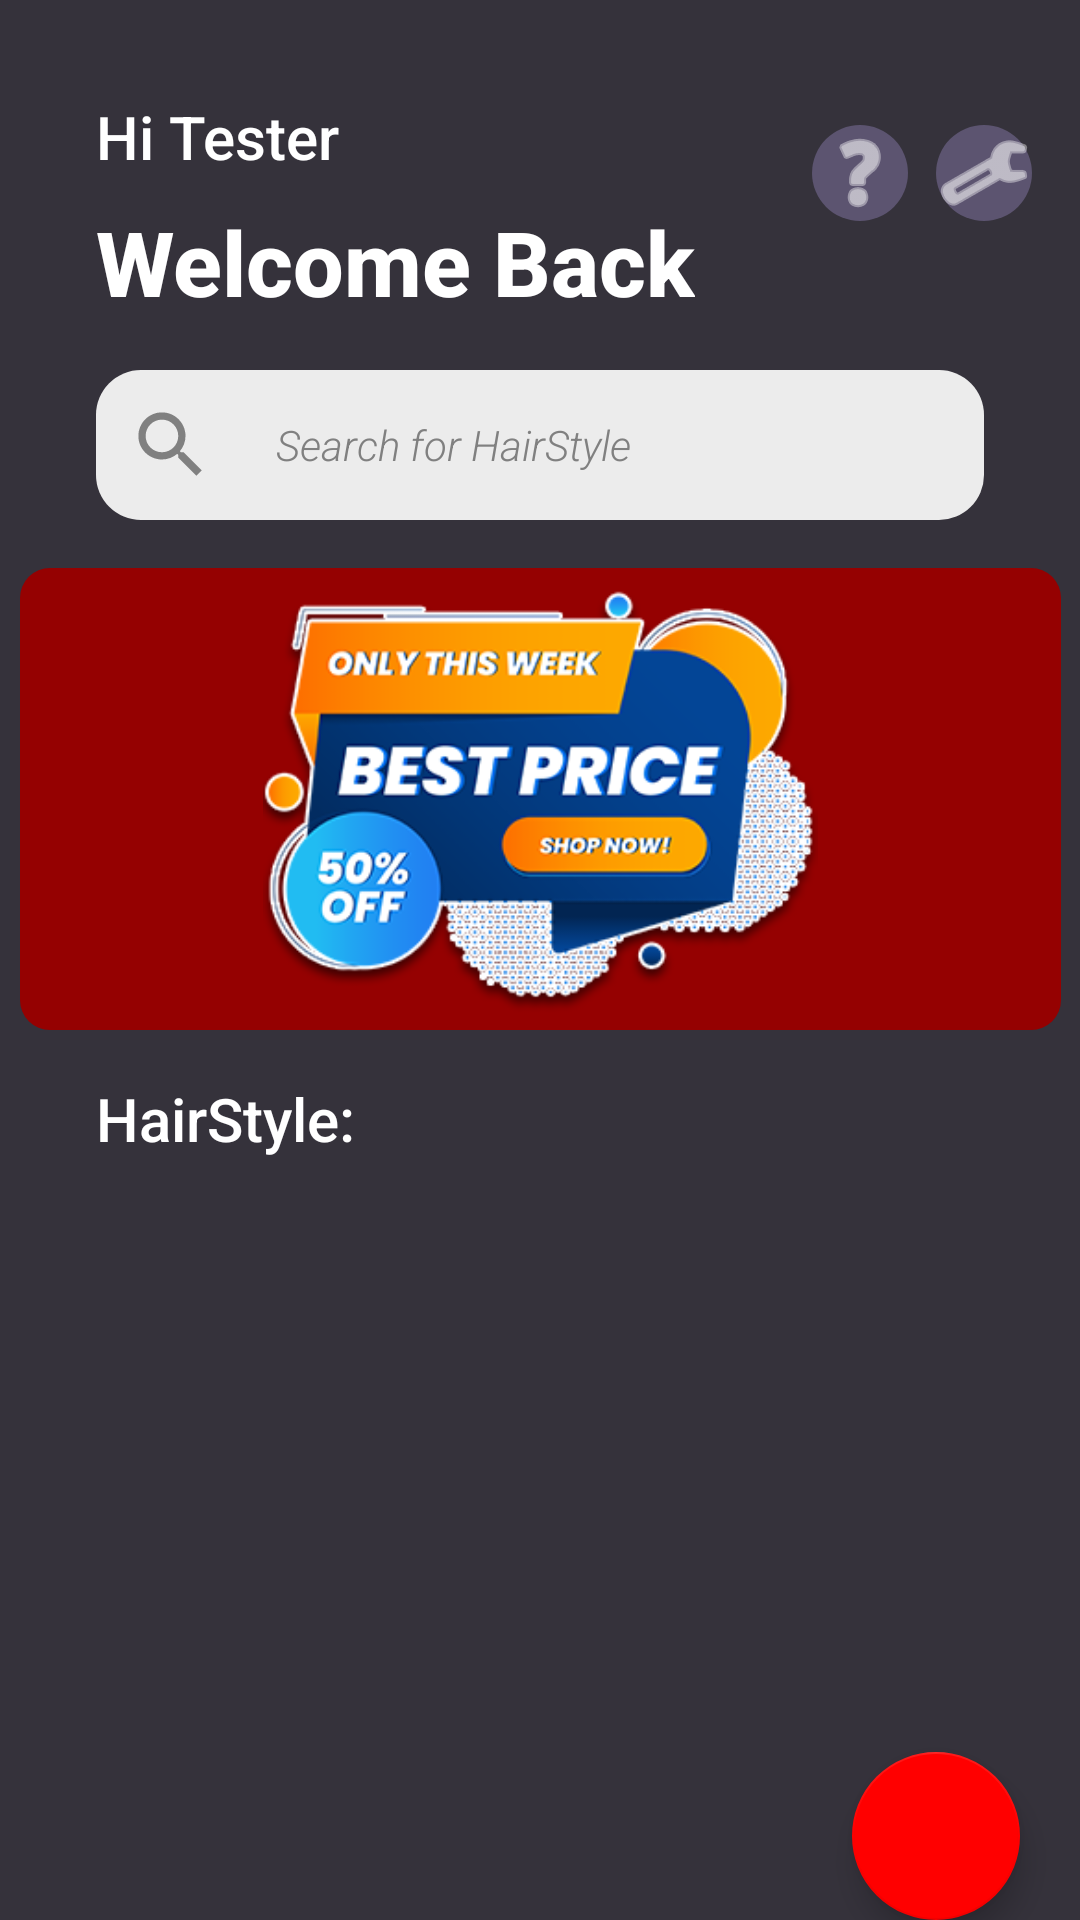

Screen size 1080w x 1920h. Icon name, then its box in pixels as (x1, y1, x2, y2):
help: (812, 125, 908, 221)
manage: (936, 125, 1032, 221)
